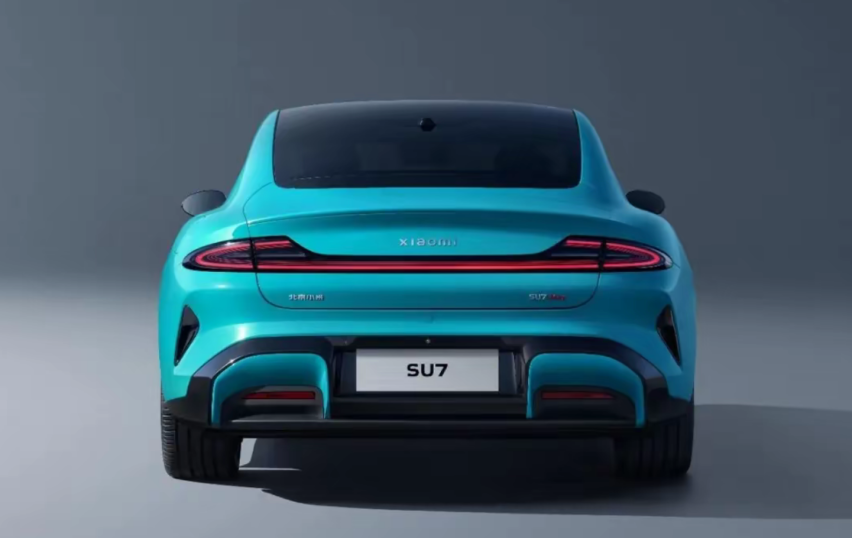su7: (163, 87, 690, 492)
